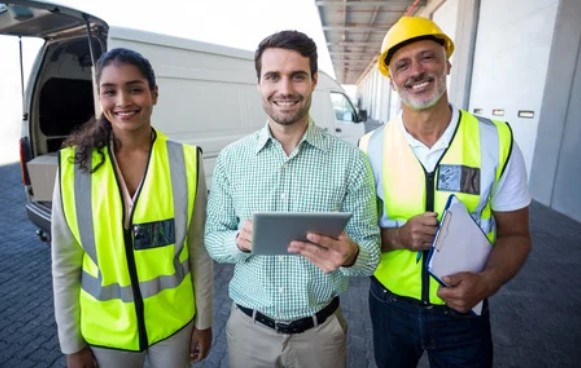worker: (362, 16, 514, 307), (60, 55, 194, 351)
